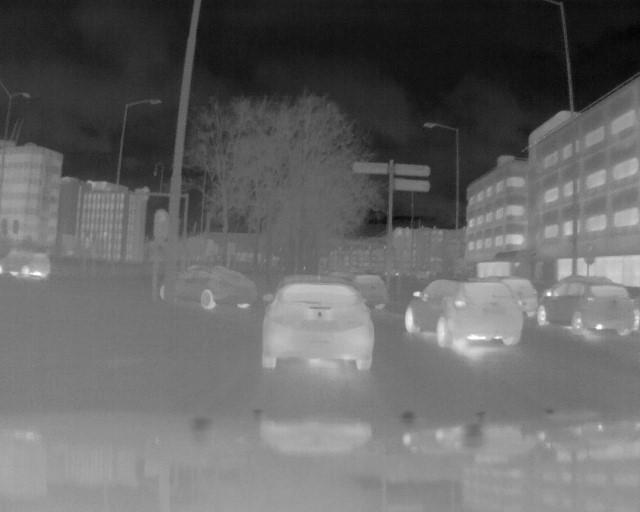car: (262, 279, 377, 373), (404, 277, 524, 348), (539, 277, 634, 336), (159, 265, 258, 313), (1, 250, 51, 279)
